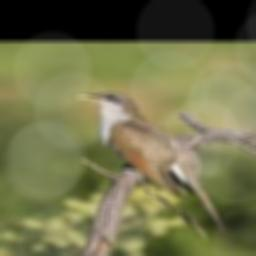Cuckoo: (72, 92, 226, 230)
